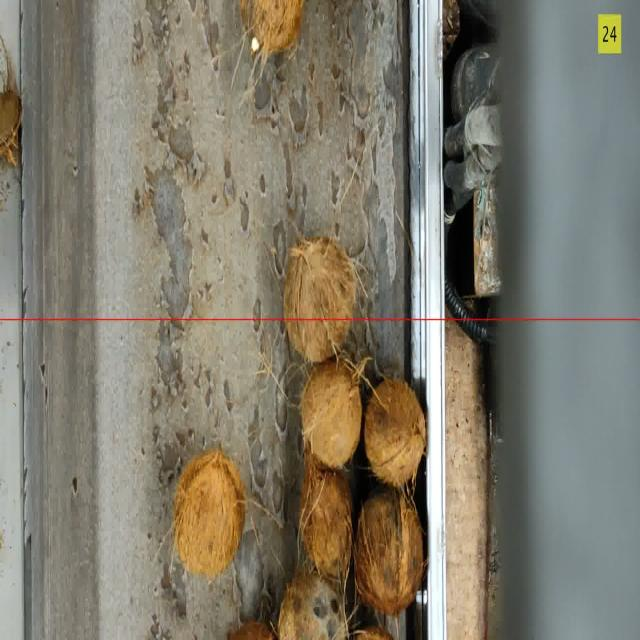Coconut-Conveyor-Belt: (173, 452, 243, 584), (354, 487, 424, 613), (286, 234, 356, 358), (366, 379, 429, 486), (301, 359, 361, 466), (298, 467, 354, 578), (236, 0, 307, 64), (279, 577, 347, 640)
